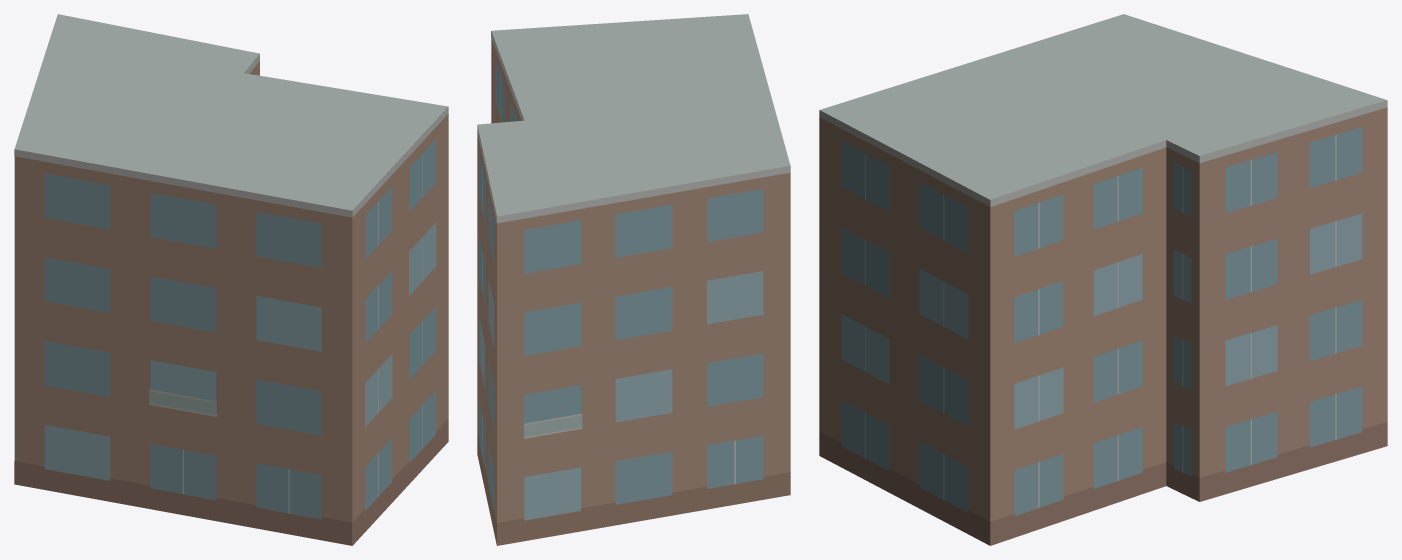
The model's file is survey-upis-33012539.glb.
3 views of the same model, side by side, from view 1: azimuth 30°, elevation 25°; view 2: azimuth 150°, elevation 25°; view 3: azimuth 270°, elevation 25° (orthographic). The views are drawn at different scales.
Parts seen in each view (by area): view 1: survey-upis-33012539.tmp; view 2: survey-upis-33012539.tmp; view 3: survey-upis-33012539.tmp.
Part boxes in pixels (bbox=[...]): survey-upis-33012539.tmp: bbox=[14, 14, 448, 545]; survey-upis-33012539.tmp: bbox=[477, 14, 790, 545]; survey-upis-33012539.tmp: bbox=[819, 14, 1387, 545].
Size of the model in its own units: 13.58 by 11.77 by 17.53.
